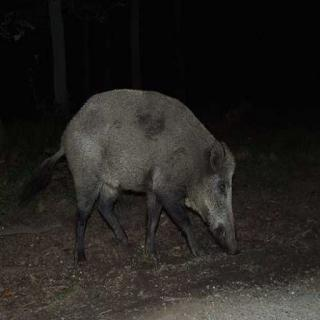Pig: (18, 56, 245, 272)
